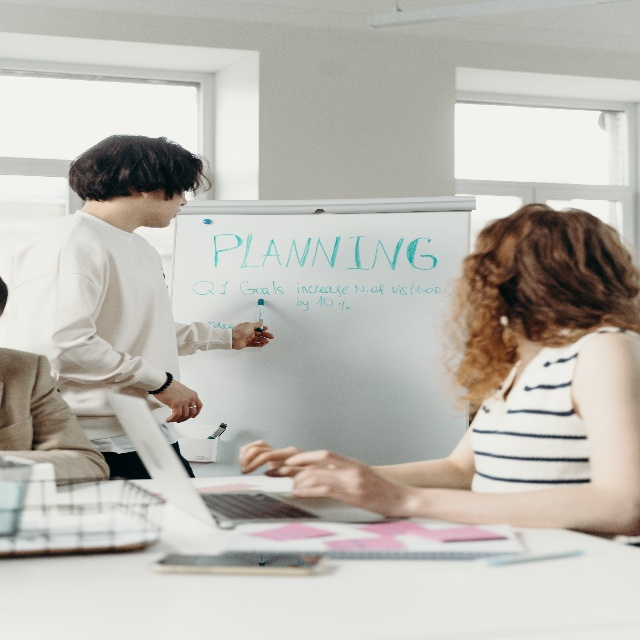Sin_guantes: (283, 450, 413, 520), (238, 439, 301, 477), (154, 380, 203, 424), (232, 321, 274, 348)
